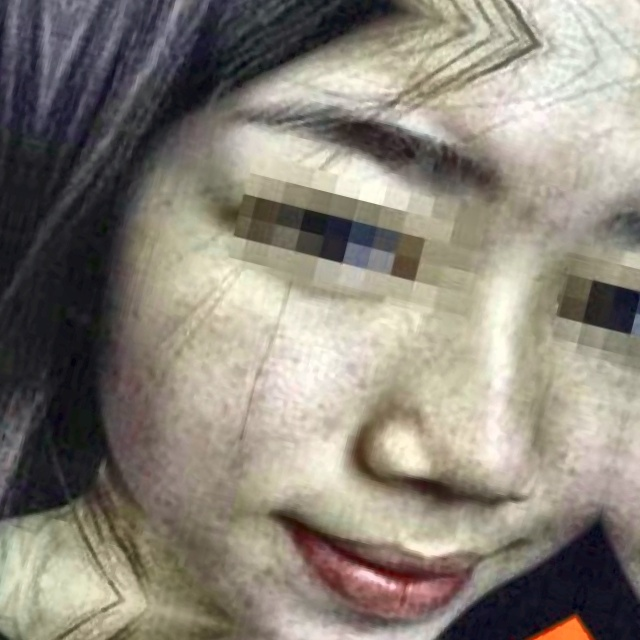comedone: (244, 594, 272, 611)
